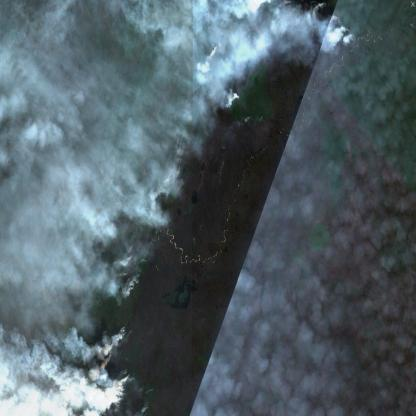fire: (82, 0, 356, 416)
